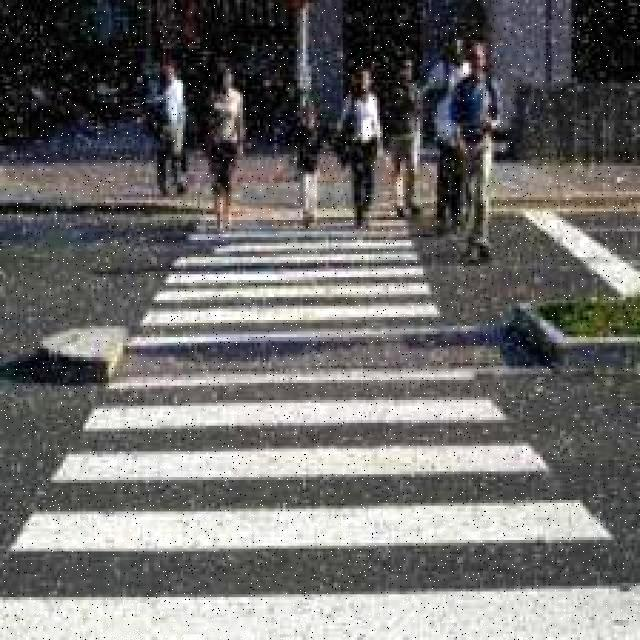crosswalk: (1, 183, 635, 638)
